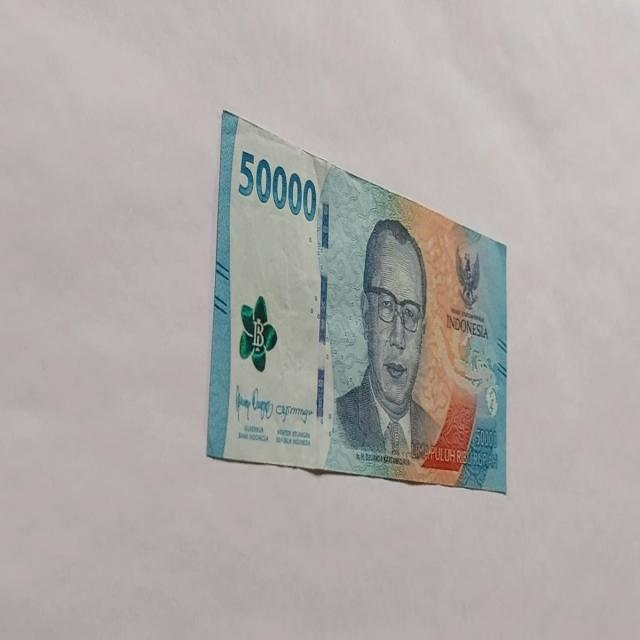lima puluh ribu rupiah: (206, 109, 508, 492), (325, 216, 445, 476), (236, 148, 318, 222)
